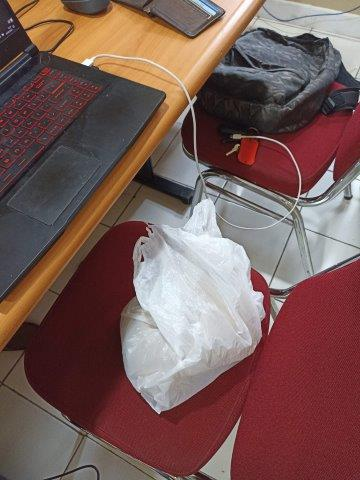plastik: (118, 198, 266, 417)
